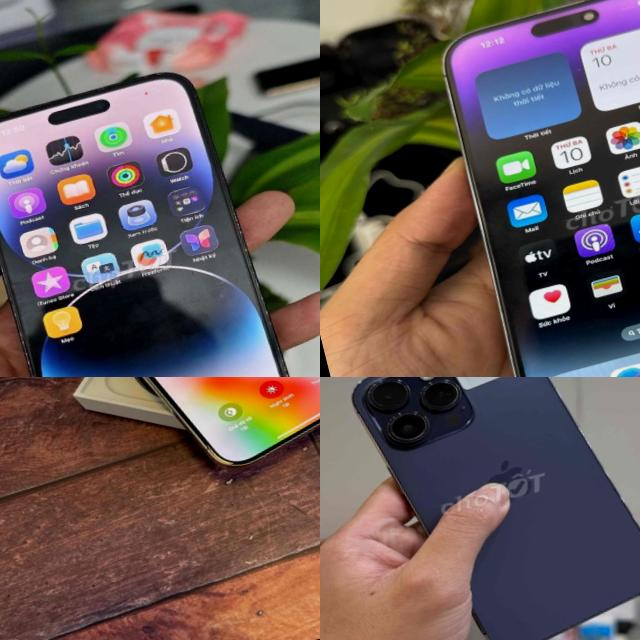gen_14: (0, 55, 308, 377), (426, 0, 640, 377), (335, 377, 640, 640)
gen_15: (47, 377, 320, 506)
scratch: (223, 188, 299, 377), (0, 183, 67, 377)
